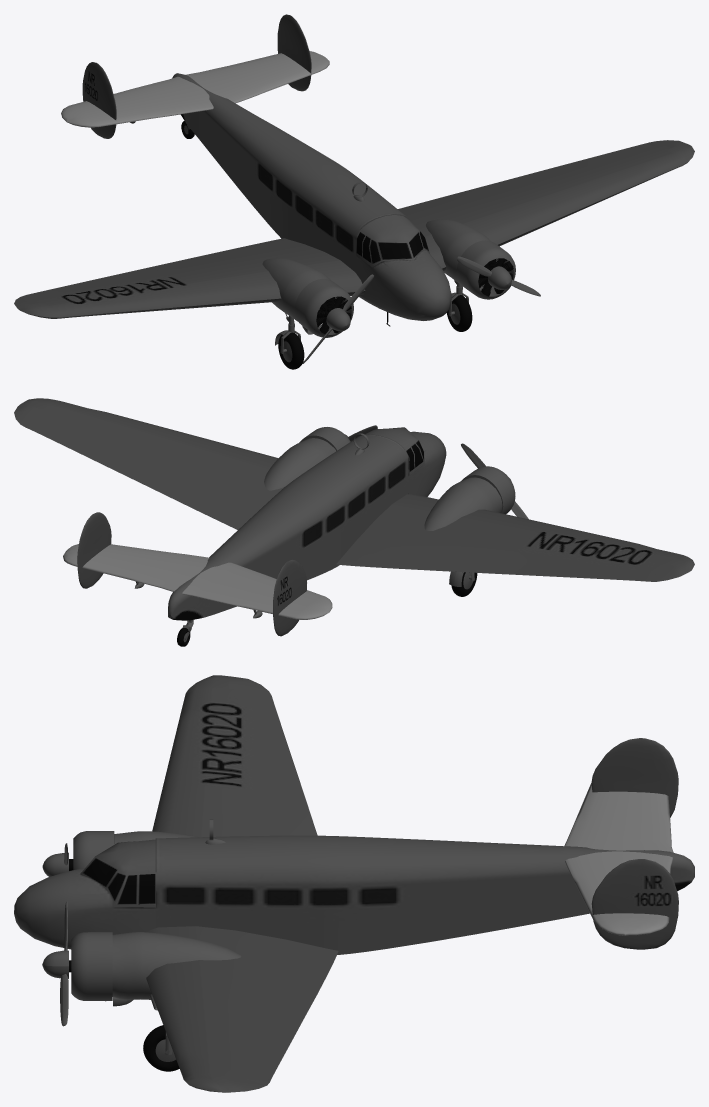
File: lockheed10.glb
3 views of the same model, one above another, from view 1: azimuth 30°, elevation 25°; view 2: azimuth 150°, elevation 25°; view 3: azimuth 270°, elevation 25° (orthographic). The views are drawn at different scales.
Parts seen in each view (by area): view 1: fus-FACES.001, wing_1-FACES.001, wing-FACES.001, tail-FACES.001, canopy-FACES.001, nacc1-FACES.001, nacc-FACES.001, cowl1-FACES.001, cowl-FACES.001, fin_11-FACES.001, fin_1-FACES.001, tyre1-FACES.001; view 2: fus-FACES.001, wing_1-FACES.001, wing-FACES.001, tail-FACES.001, nacc1-FACES.001, nacc-FACES.001, fin_11-FACES.001, fin_1-FACES.001, canopy-FACES.001, cowl1-FACES.001, cowl-FACES.001; view 3: fus-FACES.001, wing-FACES.001, wing_1-FACES.001, tail-FACES.001, fin_1-FACES.001, nacc-FACES.001, fin_11-FACES.001, canopy-FACES.001, cowl-FACES.001, cowl1-FACES.001, tyre-FACES.001.
Part boxes in pixels (x1,y1,x2,y2): fus-FACES.001: (172,73,451,320); wing_1-FACES.001: (14,238,365,318); wing-FACES.001: (398,140,694,270); tail-FACES.001: (61,51,329,127); canopy-FACES.001: (356,215,429,267); nacc1-FACES.001: (262,257,337,321); nacc-FACES.001: (426,219,498,285); cowl1-FACES.001: (294,279,353,337); cowl-FACES.001: (456,240,515,299); fin_11-FACES.001: (82,62,116,138); fin_1-FACES.001: (277,14,311,91); tyre1-FACES.001: (278,332,304,369); fus-FACES.001: (168,431,446,620); wing_1-FACES.001: (336,494,694,581); wing-FACES.001: (14,398,285,529); tail-FACES.001: (63,544,332,619); nacc1-FACES.001: (424,477,502,530); nacc-FACES.001: (264,438,335,490); fin_11-FACES.001: (273,559,306,636); fin_1-FACES.001: (77,512,111,588); canopy-FACES.001: (365,427,424,475); cowl1-FACES.001: (461,466,515,514); cowl-FACES.001: (299,427,350,450); fus-FACES.001: (14,835,694,954); wing-FACES.001: (144,926,338,1092); wing_1-FACES.001: (152,675,317,837); tail-FACES.001: (564,783,673,935); fin_1-FACES.001: (591,859,678,949); nacc-FACES.001: (112,932,241,999); fin_11-FACES.001: (591,738,678,817); canopy-FACES.001: (80,839,155,907); cowl-FACES.001: (71,932,112,1001); cowl1-FACES.001: (73,831,114,869); tyre-FACES.001: (143,1025,179,1071).
Bounding box in the file's own units: 16.76 × 4.17 × 11.54.
11 materials, 7 textured.
